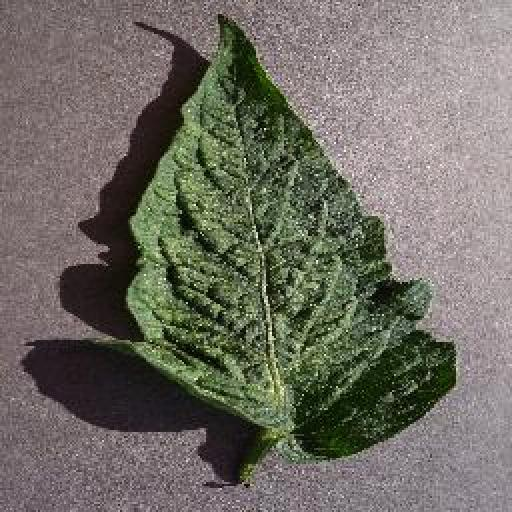disease_tomato: (126, 10, 456, 464)
